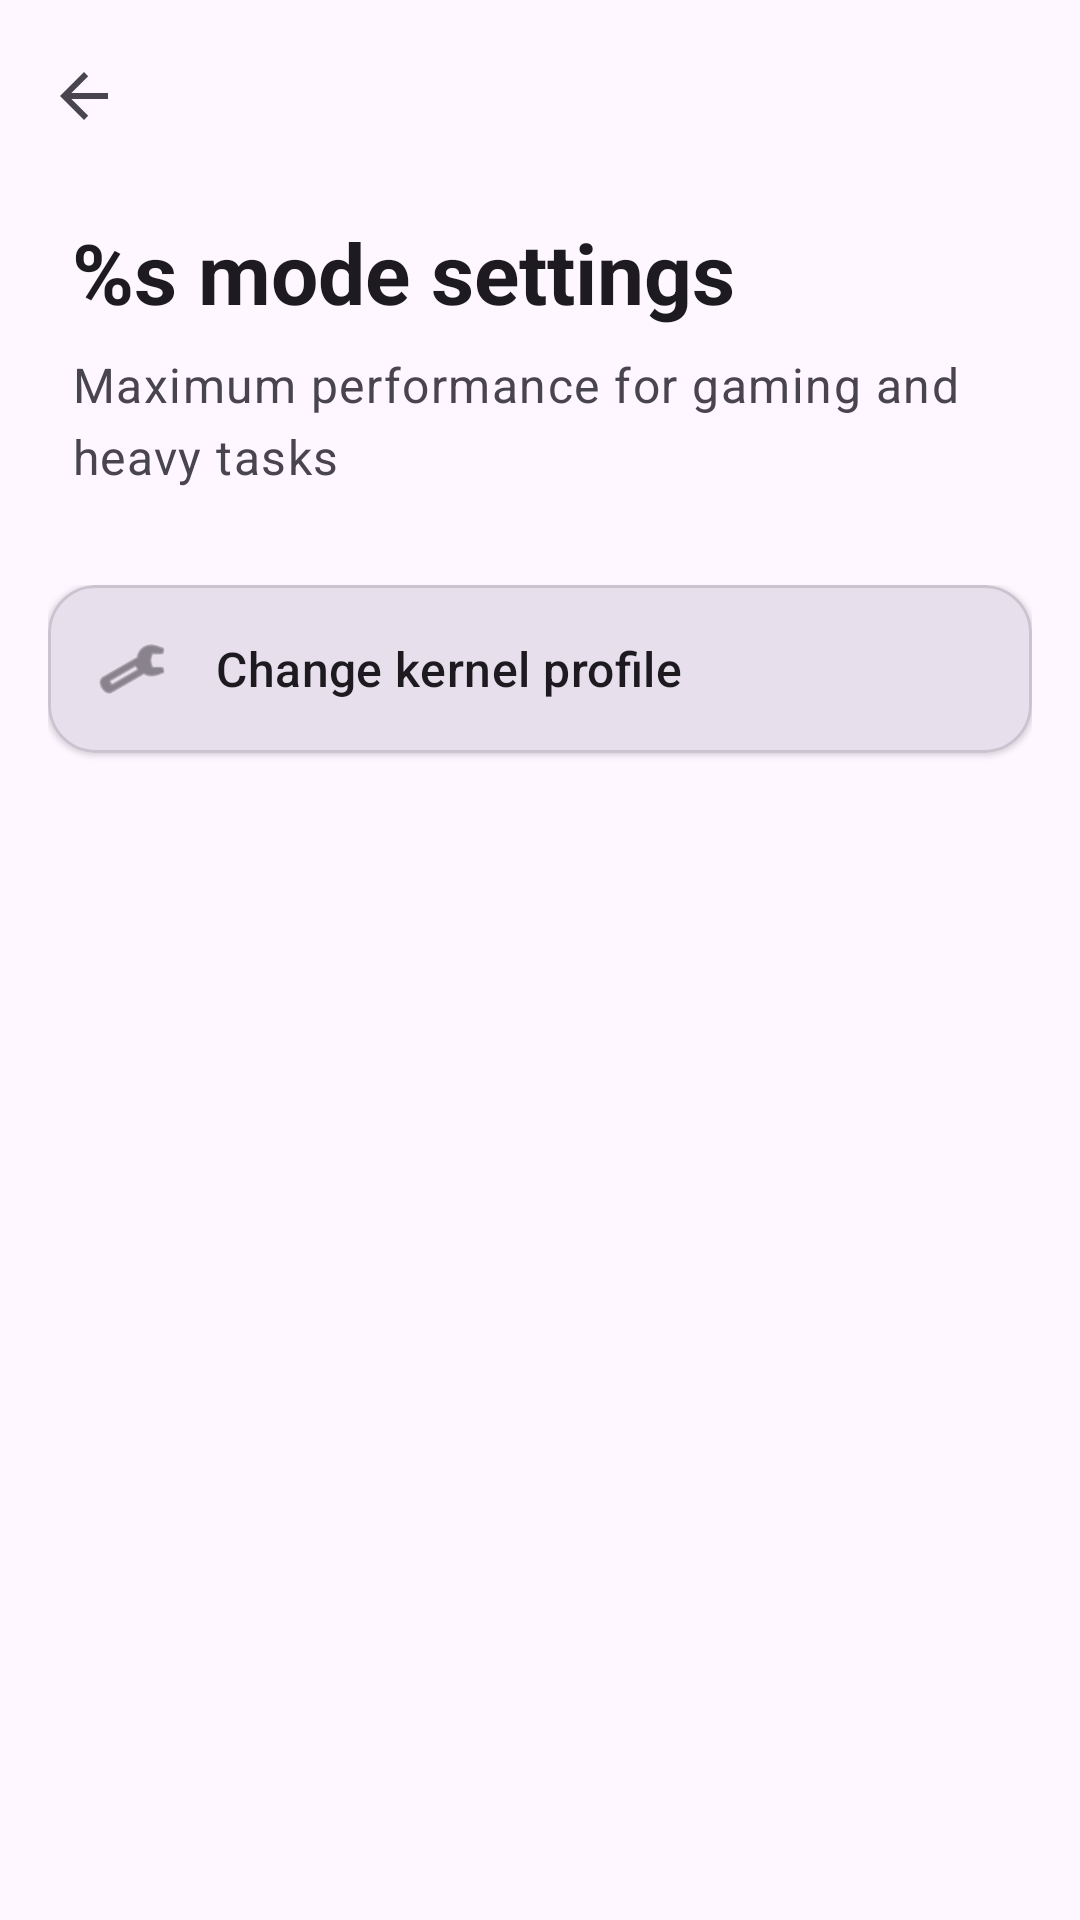

Icon bounding boxes for this 1080x1920 phone screenshot, format (x1, y1, x2, y2):
preferences: (100, 644, 164, 694)
